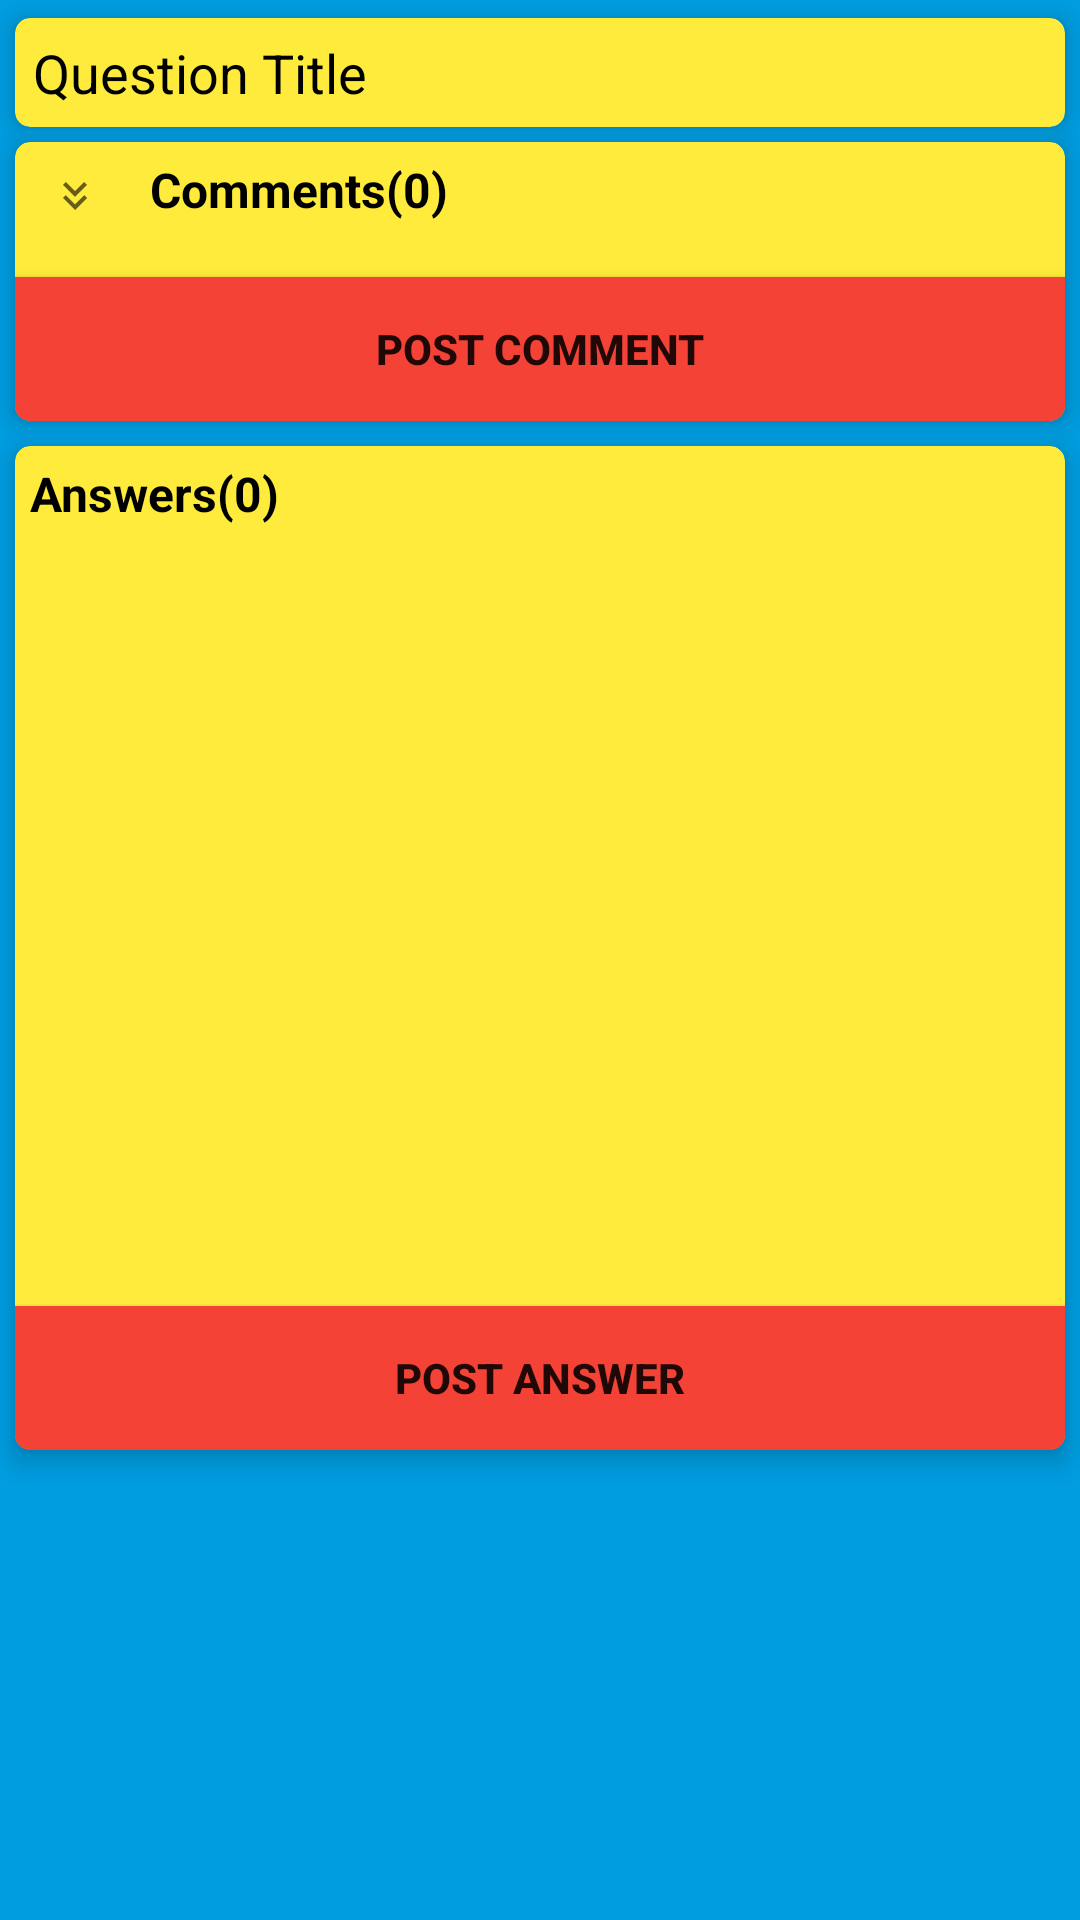

Locate icon controls on the screen. Image size 1080*1920, boxes as {"x1": x1, "y1": y1, "x2": x2, "y2": y2}.
arrow down: {"x1": 63, "y1": 182, "x2": 87, "y2": 210}
